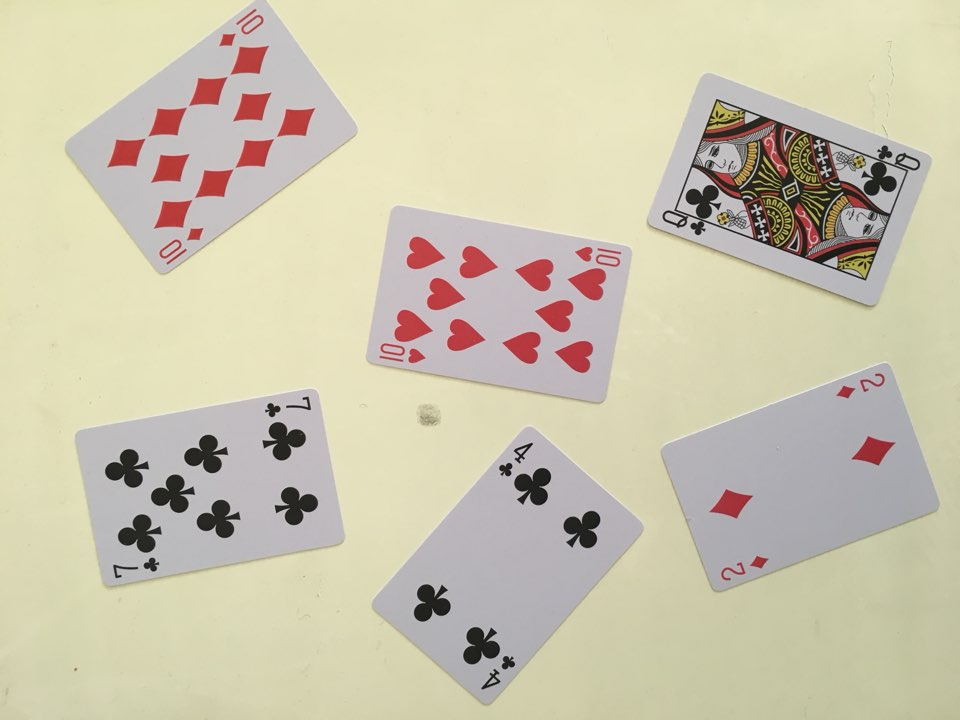queen: (642, 66, 936, 315)
ten: (59, 1, 363, 284), (360, 197, 639, 415)
